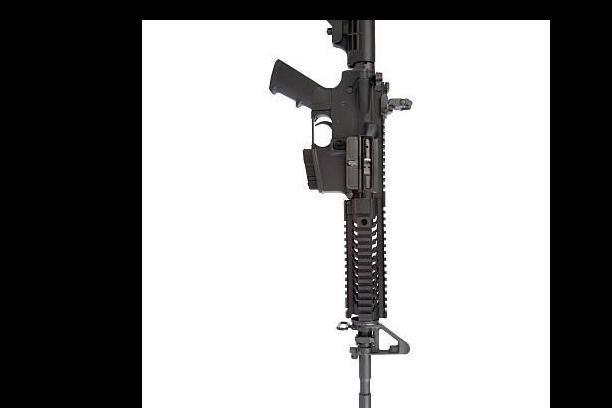larga: (268, 20, 414, 408)
